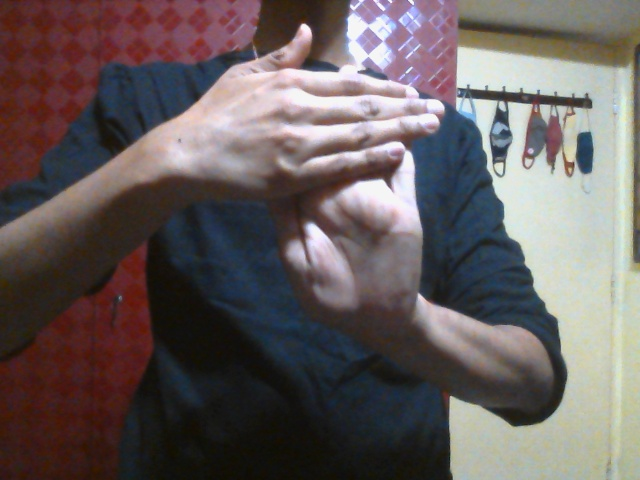H: (208, 22, 445, 331)
